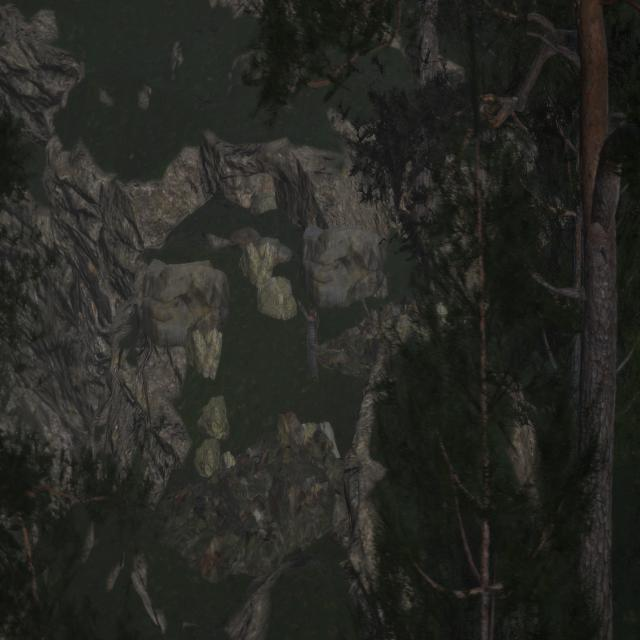Human: (298, 286, 326, 406)
